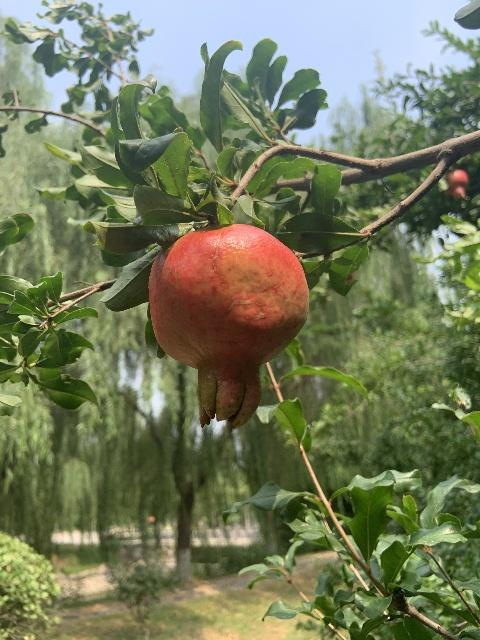ripe: (148, 224, 310, 428), (445, 169, 469, 199)
